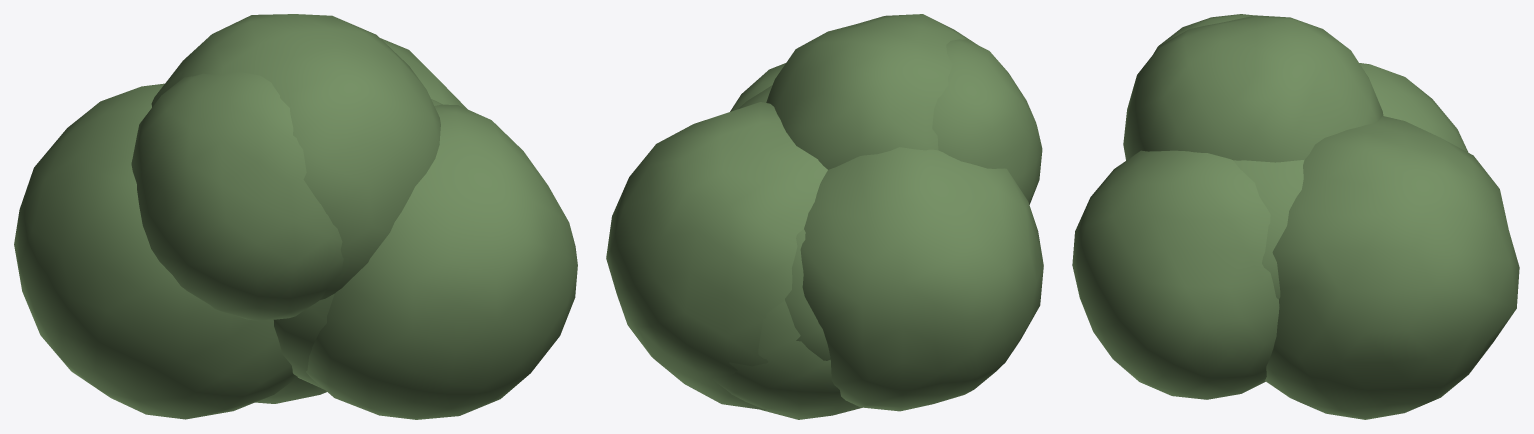
File: NPR_07_1002__MOD__VegetationElements__Shrubs__GardenShrub__Var-02__.glb
The picture shows the model from 3 angles, left to right: view 1: azimuth 30°, elevation 25°; view 2: azimuth 150°, elevation 25°; view 3: azimuth 270°, elevation 25°; orthographic projection. The views are drawn at different scales.
Visible parts, largest first — view 1: NPR_07_1002__MOD__VegetationElements__Shrubs__GardenShrub__V; view 2: NPR_07_1002__MOD__VegetationElements__Shrubs__GardenShrub__V; view 3: NPR_07_1002__MOD__VegetationElements__Shrubs__GardenShrub__V.
Part boxes in pixels (x1=…): NPR_07_1002__MOD__VegetationElements__Shrubs__GardenShrub__V: x1=14, y1=14, x2=577, y2=419; NPR_07_1002__MOD__VegetationElements__Shrubs__GardenShrub__V: x1=606, y1=14, x2=1043, y2=419; NPR_07_1002__MOD__VegetationElements__Shrubs__GardenShrub__V: x1=1072, y1=14, x2=1519, y2=419.
Bounding box in the file's own units: 1.29 × 1.14 × 1.32.
